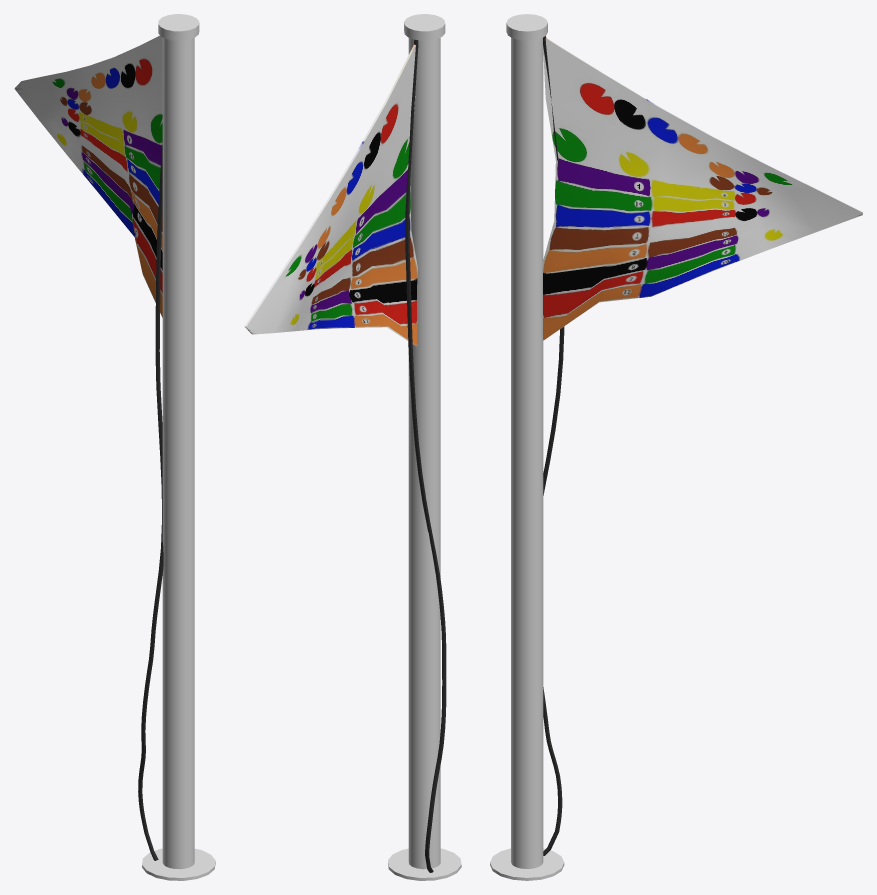
The model's file is Flag.fbx.
3 views of the same model, side by side, from view 1: azimuth 30°, elevation 25°; view 2: azimuth 150°, elevation 25°; view 3: azimuth 270°, elevation 25° (orthographic).
Parts seen in each view (by area): view 1: Cylinder.002; view 2: Cylinder.002; view 3: Cylinder.002.
Part boxes in pixels (box(x1,y1,x2,y2)): Cylinder.002: box(14, 14, 215, 880); Cylinder.002: box(244, 14, 461, 880); Cylinder.002: box(490, 14, 862, 880).
Bounding box in the file's own units: 3.3 × 41.21 × 16.54.
